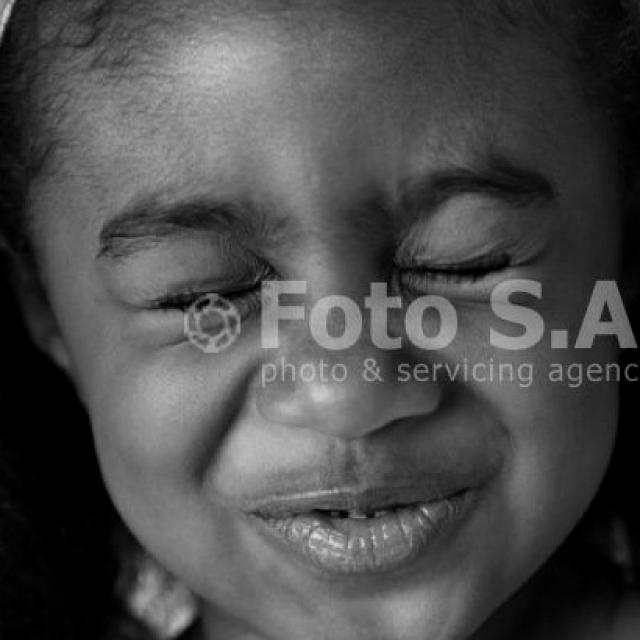real: (44, 22, 582, 606), (122, 208, 528, 324)
